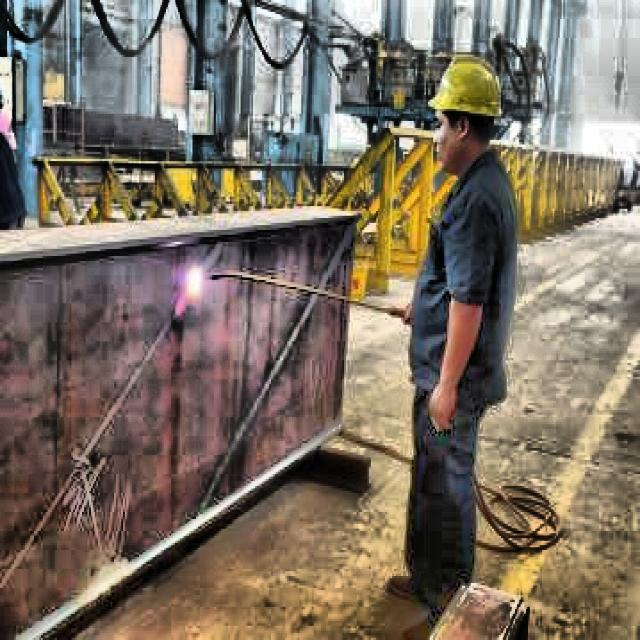helmet: (422, 43, 510, 173)
